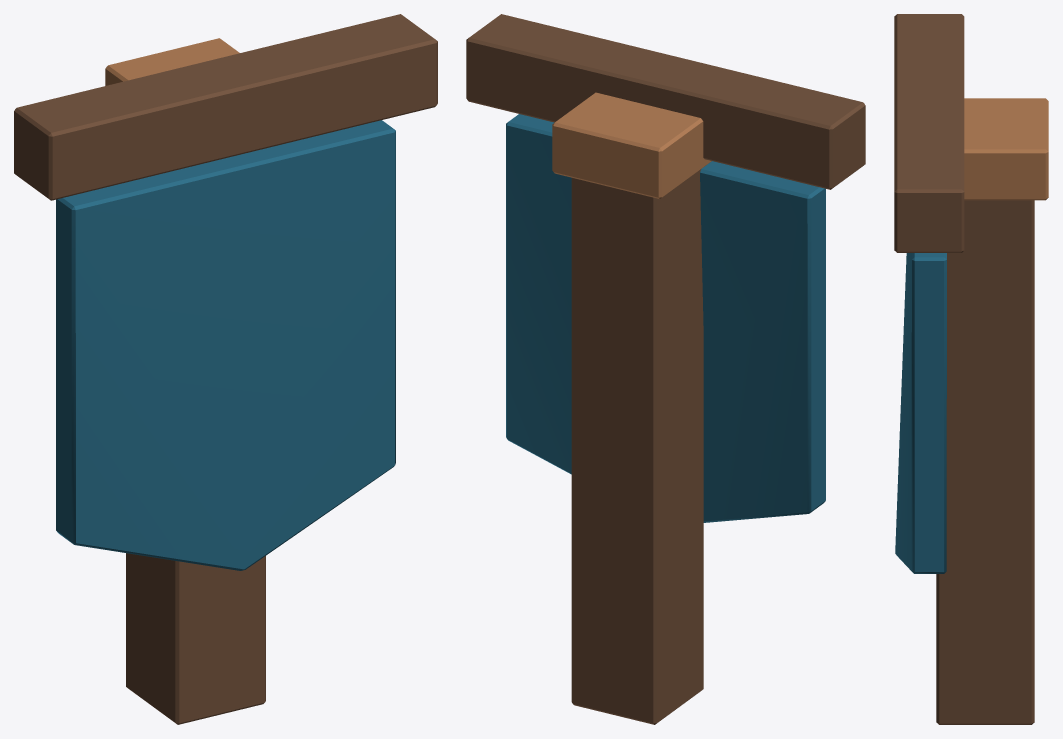
File: banner_small_01.glb
The picture shows the model from 3 angles, left to right: view 1: azimuth 30°, elevation 25°; view 2: azimuth 150°, elevation 25°; view 3: azimuth 270°, elevation 25°; orthographic projection. The views are drawn at different scales.
Parts seen in each view (by area): view 1: banner_small_01; view 2: banner_small_01; view 3: banner_small_01.
Part boxes in pixels (left/top/right/bottom): banner_small_01: left=14, top=14, right=437, bottom=724; banner_small_01: left=466, top=14, right=865, bottom=724; banner_small_01: left=894, top=14, right=1048, bottom=724.
Size of the model in its own units: 0.6 by 0.95 by 0.22.
